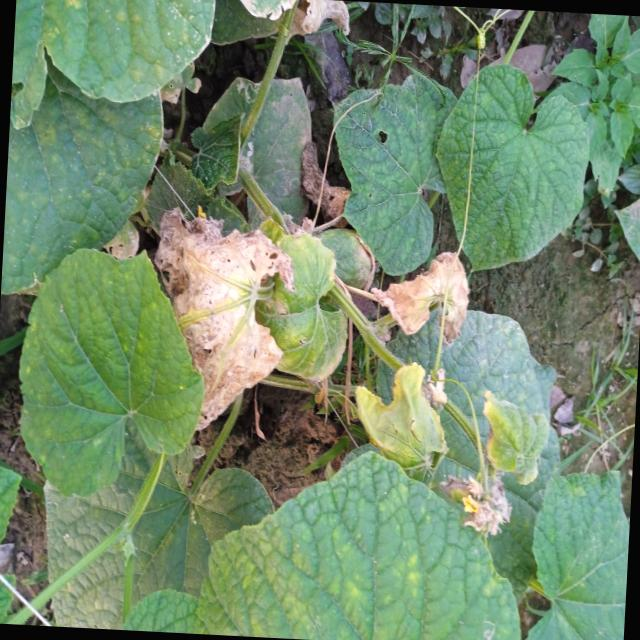cucumber_bacterial: (138, 199, 286, 400), (355, 253, 478, 341), (430, 456, 530, 543)
